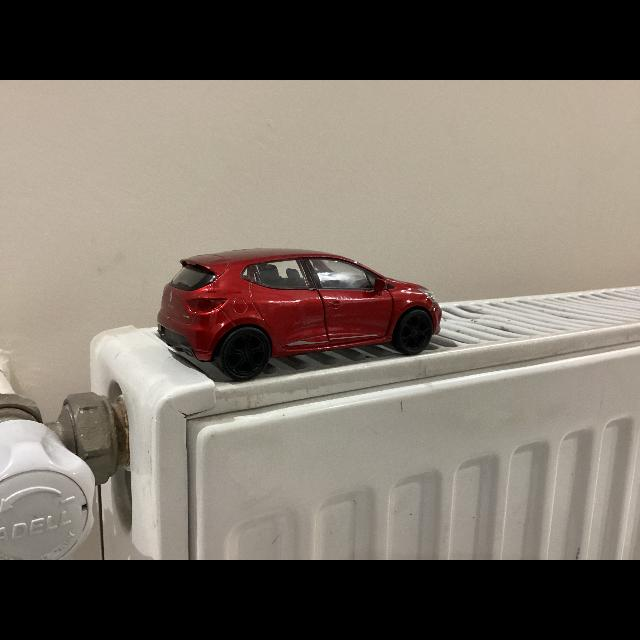Dogru_Jant: (226, 332, 264, 373), (402, 317, 428, 348)
